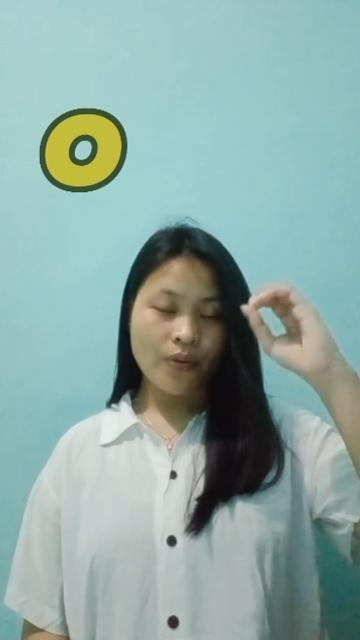O: (238, 284, 340, 388)
